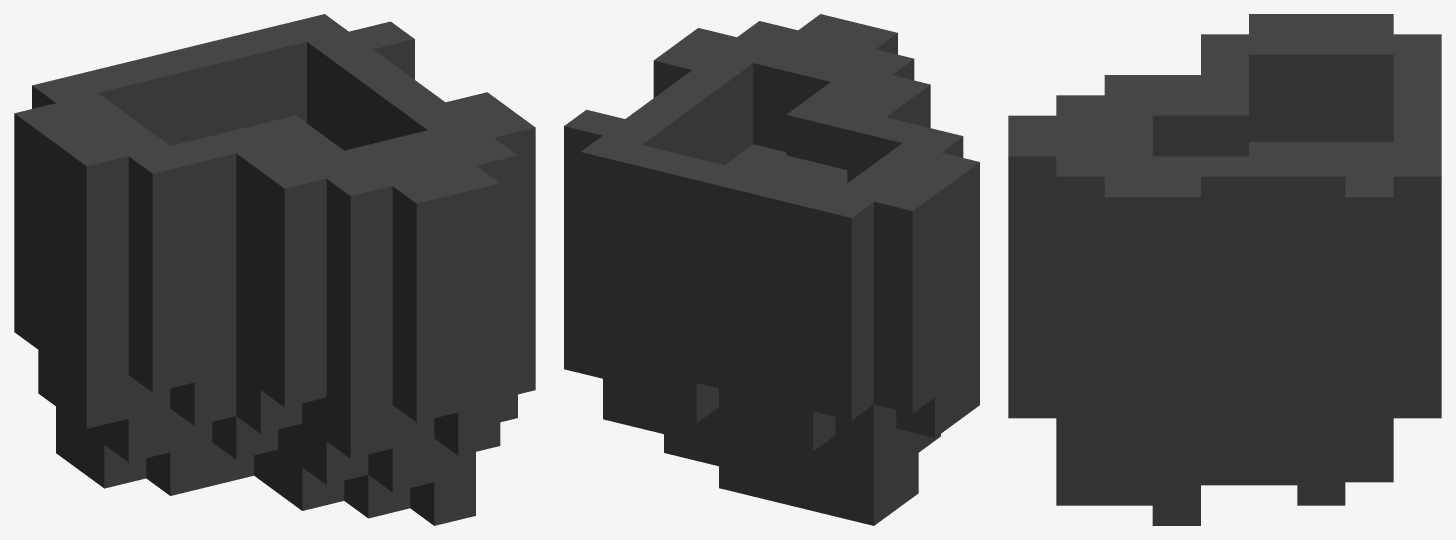
File: cristais-12.obj
3 renders of one model, left to right at view 1: azimuth 30°, elevation 25°; view 2: azimuth 150°, elevation 25°; view 3: azimuth 270°, elevation 25°, orthographic. The views are drawn at different scales.
Size of the model in its own units: 0.9 by 0.8 by 0.9.
Materials: 1 (1 with a texture image).
